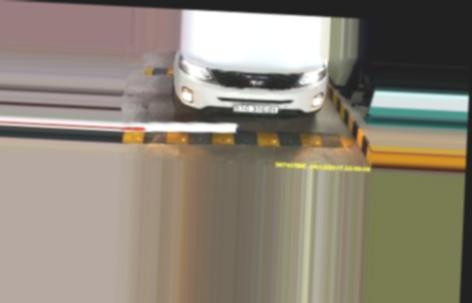License_Plate: (230, 100, 279, 117)
